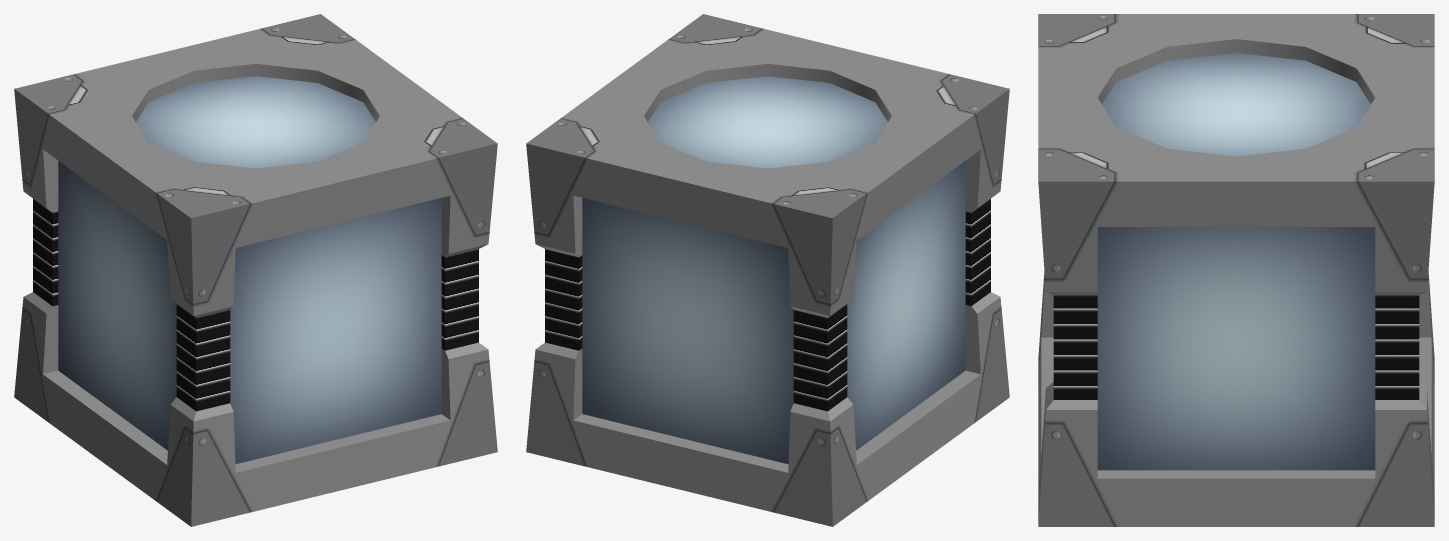
The model's file is Crate_latest.FBX.
3 views of the same model, side by side, from view 1: azimuth 30°, elevation 25°; view 2: azimuth 150°, elevation 25°; view 3: azimuth 270°, elevation 25° (orthographic). The views are drawn at different scales.
Parts seen in each view (by area): view 1: CrateLP; view 2: CrateLP; view 3: CrateLP.
Part boxes in pixels (x1,y1,x2,y2): CrateLP: [14, 14, 497, 526]; CrateLP: [526, 14, 1009, 526]; CrateLP: [1038, 14, 1434, 526].
Size of the model in its own units: 1.04 by 1 by 1.04.
Materials: 2 (2 with a texture image).
